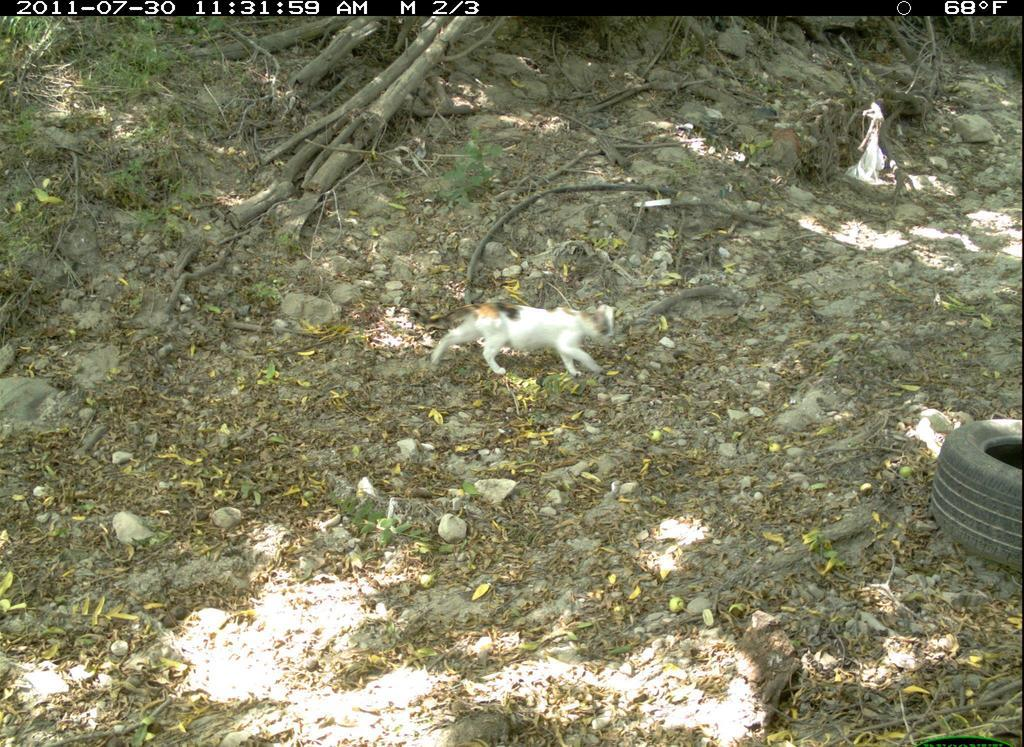cat: (397, 297, 632, 382)
